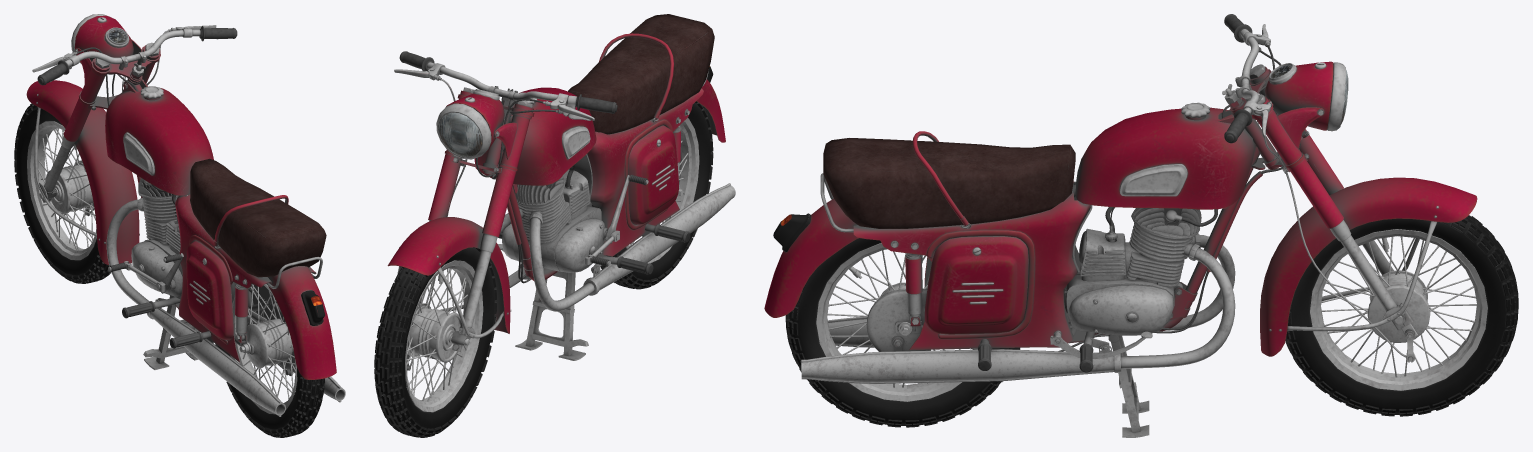
The model's file is Bike.glb.
The picture shows the model from 3 angles, left to right: view 1: azimuth 30°, elevation 25°; view 2: azimuth 150°, elevation 25°; view 3: azimuth 270°, elevation 25°; orthographic projection. The views are drawn at different scales.
Visible parts, largest first — view 1: k_175; view 2: k_175; view 3: k_175.
Boxes of the visible parts, x1,y1,x2,y2 form: k_175: (14,14,345,437); k_175: (374,14,735,437); k_175: (764,14,1518,437).
Bounding box in the file's own units: 0.8565 × 1.2 × 2.27.
Materials: 3 (3 with a texture image).
